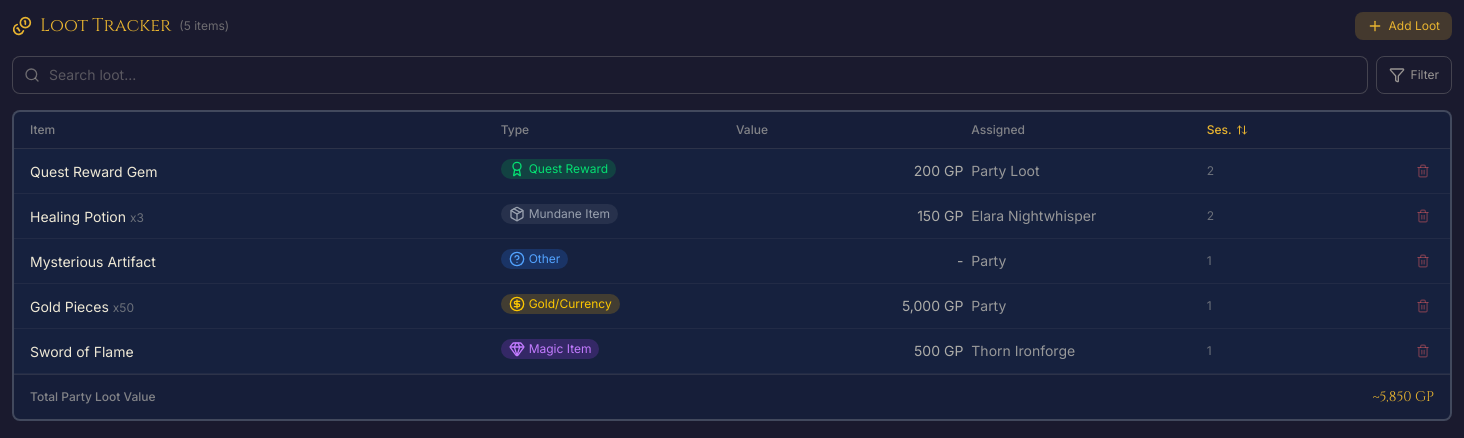
Scenario: LootTracker › should search loot by name
The width and height of the screenshot is (1464, 438).
Type "Sword" into the field labelled "Search loot". click: (690, 75)
box: [12,56,1368,94]
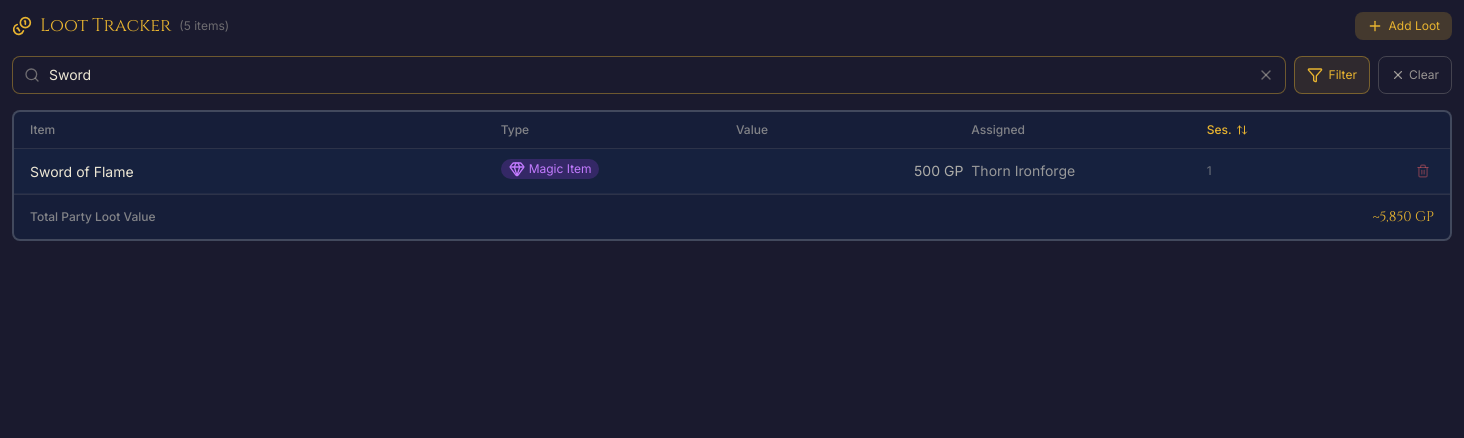
Check: the text "Sword of Flame" is shown, box [30,163,134,180]
Check: the text "Gold Pieces" is gone
